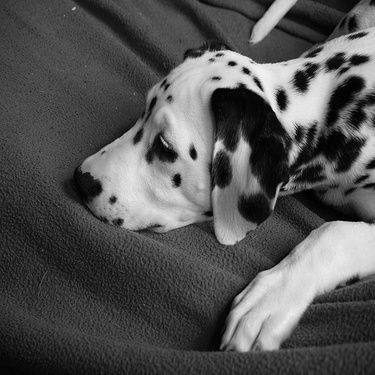dog: (63, 1, 372, 353)
